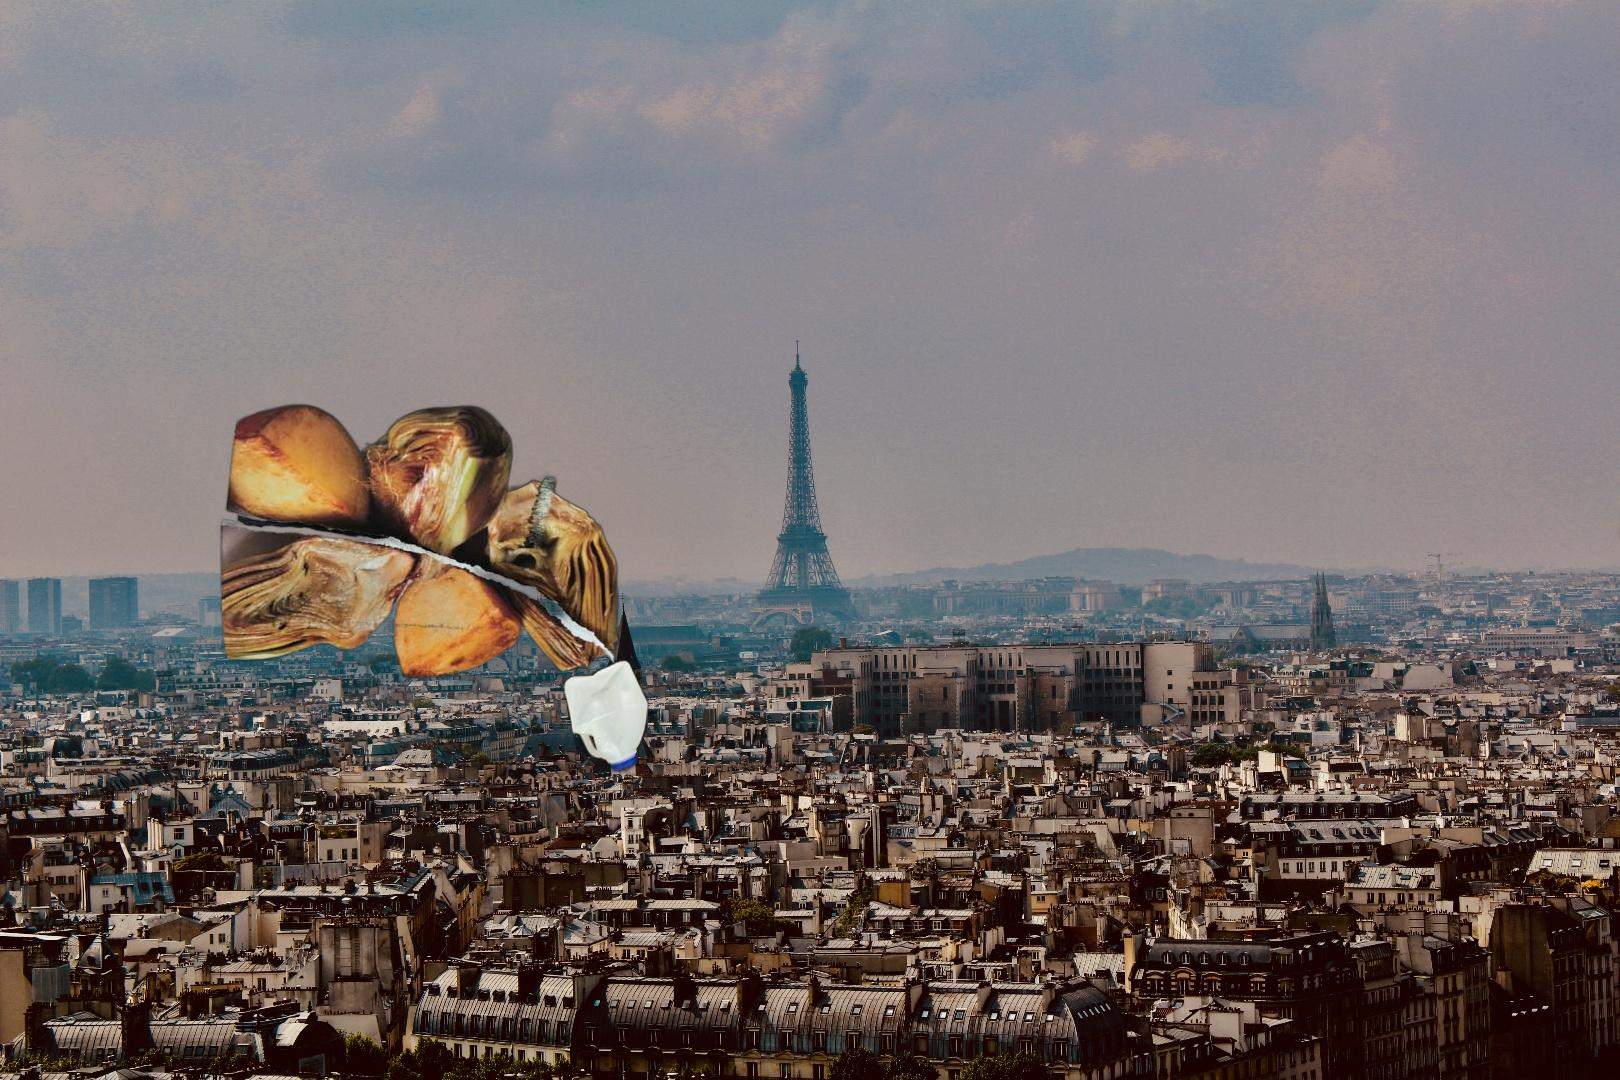paper: (217, 403, 626, 682)
plastic-bottles: (560, 653, 653, 777), (1615, 472, 1620, 697)
